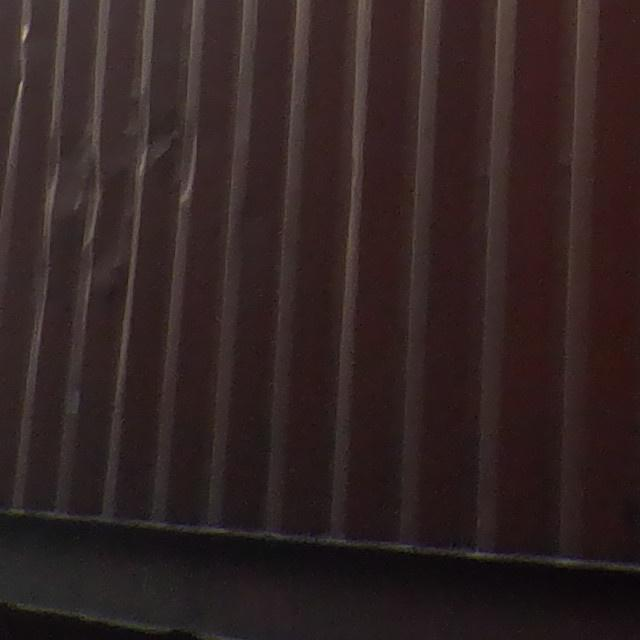dent: (42, 97, 202, 271)
